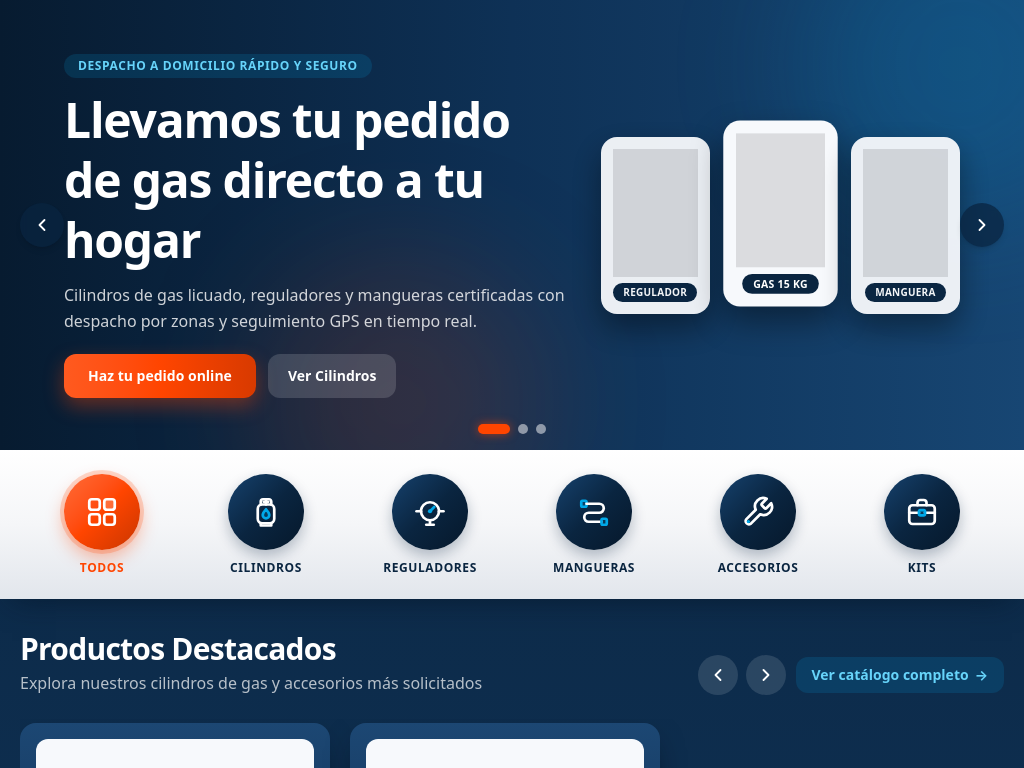
Test case: Pruebas Unitarias - Comportamiento de Componentes y Manipulación del DOM › 22. Inicio: Renderiza el carrusel header con el banner principal, la barra de categorías y los productos en carrusel
Expected: the heading "Llevamos tu pedido de gas directo a tu hogar" is shown, x1=64 y1=90 x2=577 y2=270
Expected: the button "Haz tu pedido online" is shown, x1=64 y1=354 x2=256 y2=398
Click the button "Reguladores" at (430, 524), box x1=360 y1=474 x2=500 y2=575
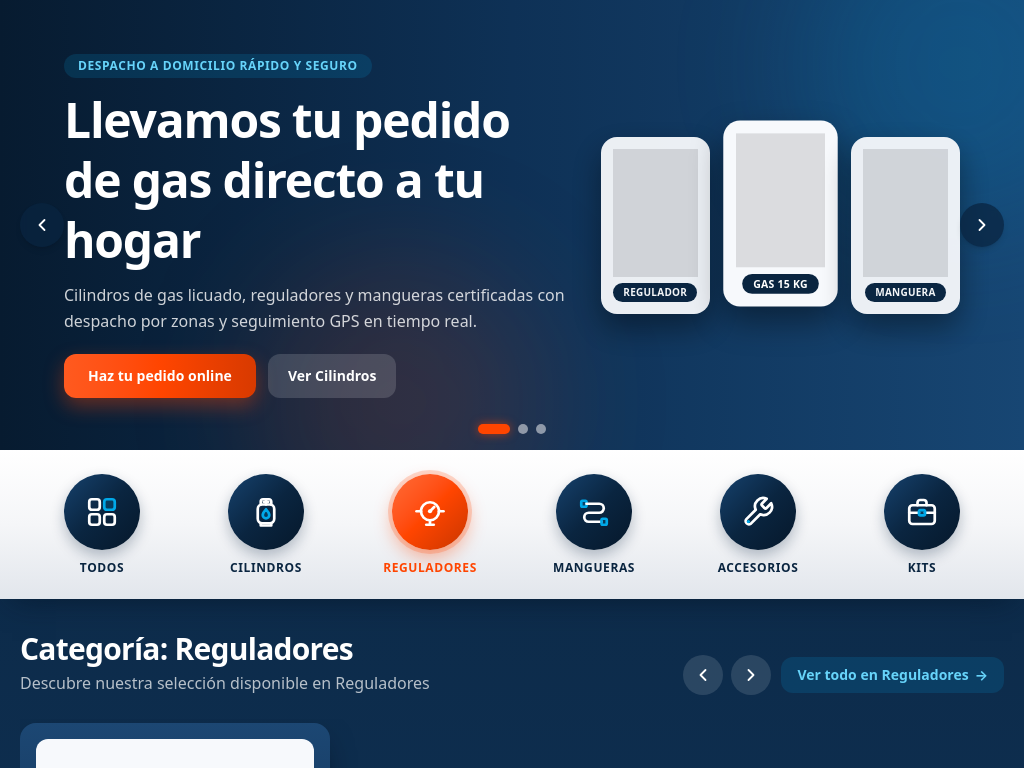
Now the heading "Categoría: Reguladores" is shown, box x1=20 y1=628 x2=353 y2=669
